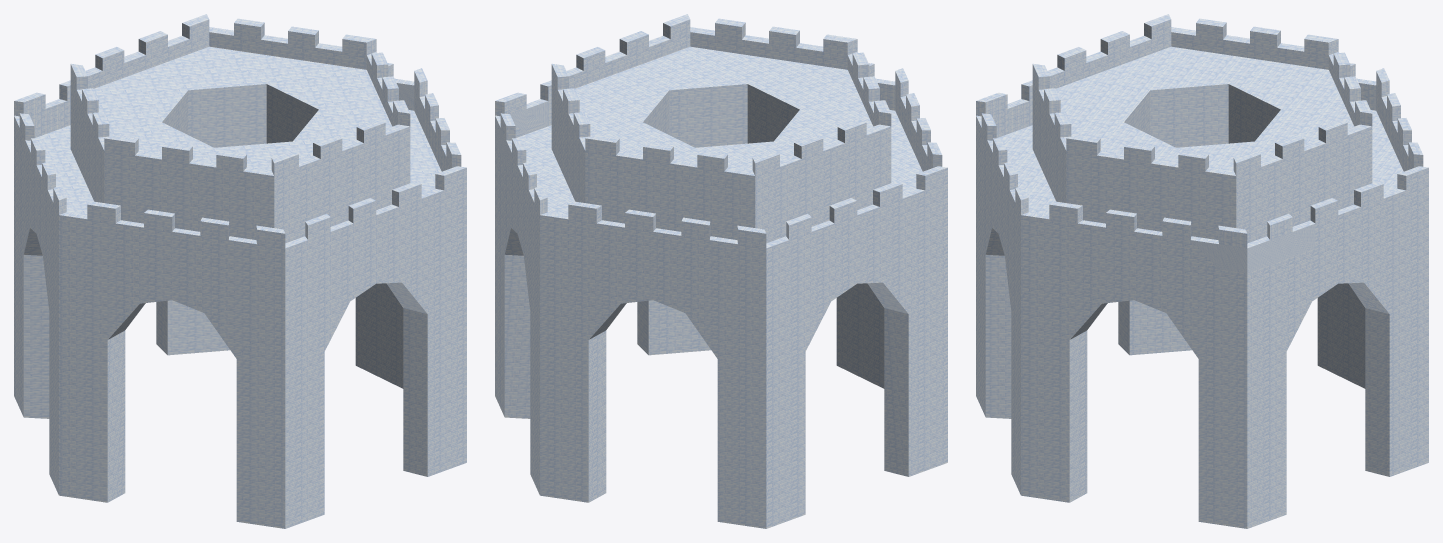
File: CastleBuilding.fbx
The picture shows the model from 3 angles, left to right: view 1: azimuth 30°, elevation 25°; view 2: azimuth 150°, elevation 25°; view 3: azimuth 270°, elevation 25°; orthographic projection.
Parts seen in each view (by area): view 1: Cylinder.027; view 2: Cylinder.027; view 3: Cylinder.027.
Part boxes in pixels (box(x1,y1,x2,y2)): Cylinder.027: box(14, 14, 466, 528); Cylinder.027: box(495, 14, 947, 528); Cylinder.027: box(976, 14, 1428, 528).
Size of the model in its own units: 2036 by 1625 by 1957.
